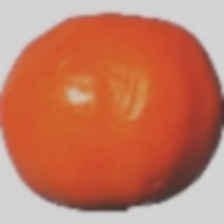tangerine: (19, 52, 213, 188)
